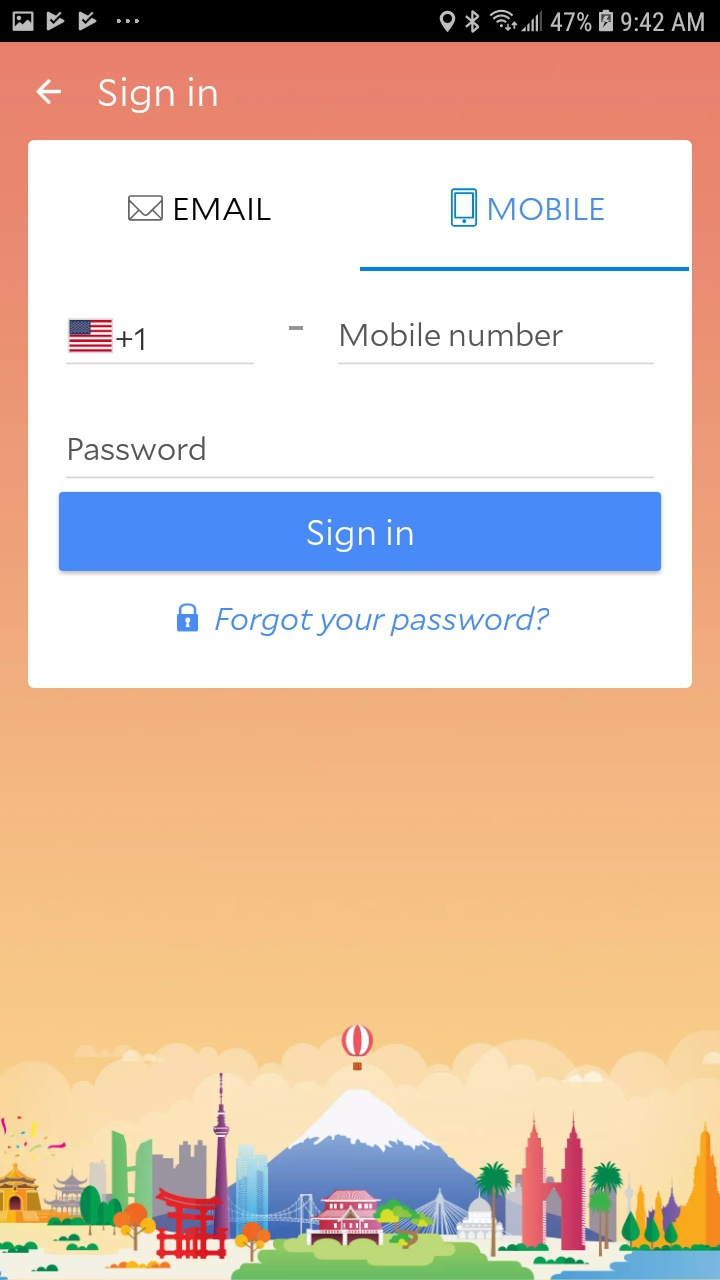BackgroundImage: (1, 43, 720, 1280)
EditText: (67, 436, 654, 479), (338, 322, 655, 366), (67, 318, 256, 366)
Icon: (129, 195, 164, 222), (36, 79, 62, 106), (177, 603, 199, 633)
Image: (1, 1023, 720, 1280), (69, 319, 114, 354), (451, 188, 478, 228)
Text: (215, 606, 550, 637), (340, 322, 564, 348), (99, 77, 218, 115), (489, 198, 605, 221), (175, 198, 272, 221), (116, 328, 145, 351)
TextButton: (60, 492, 662, 572)
UpperTaskBar: (1, 1, 720, 43)
